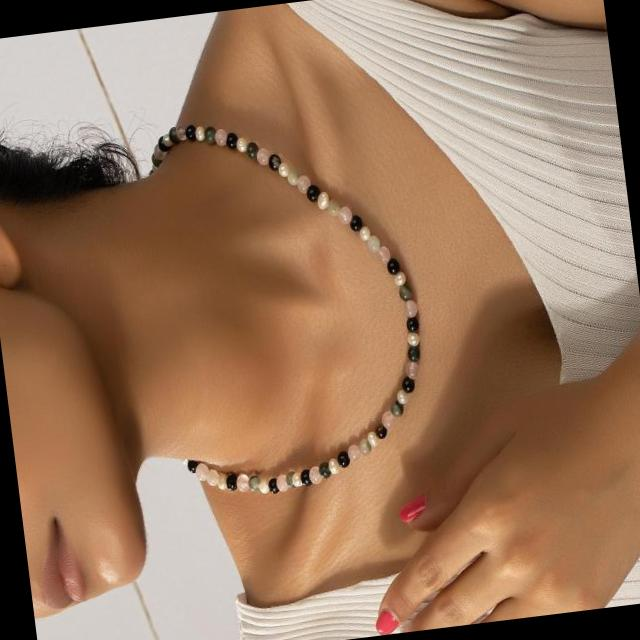Nail: (399, 496, 425, 521), (375, 609, 400, 635)
